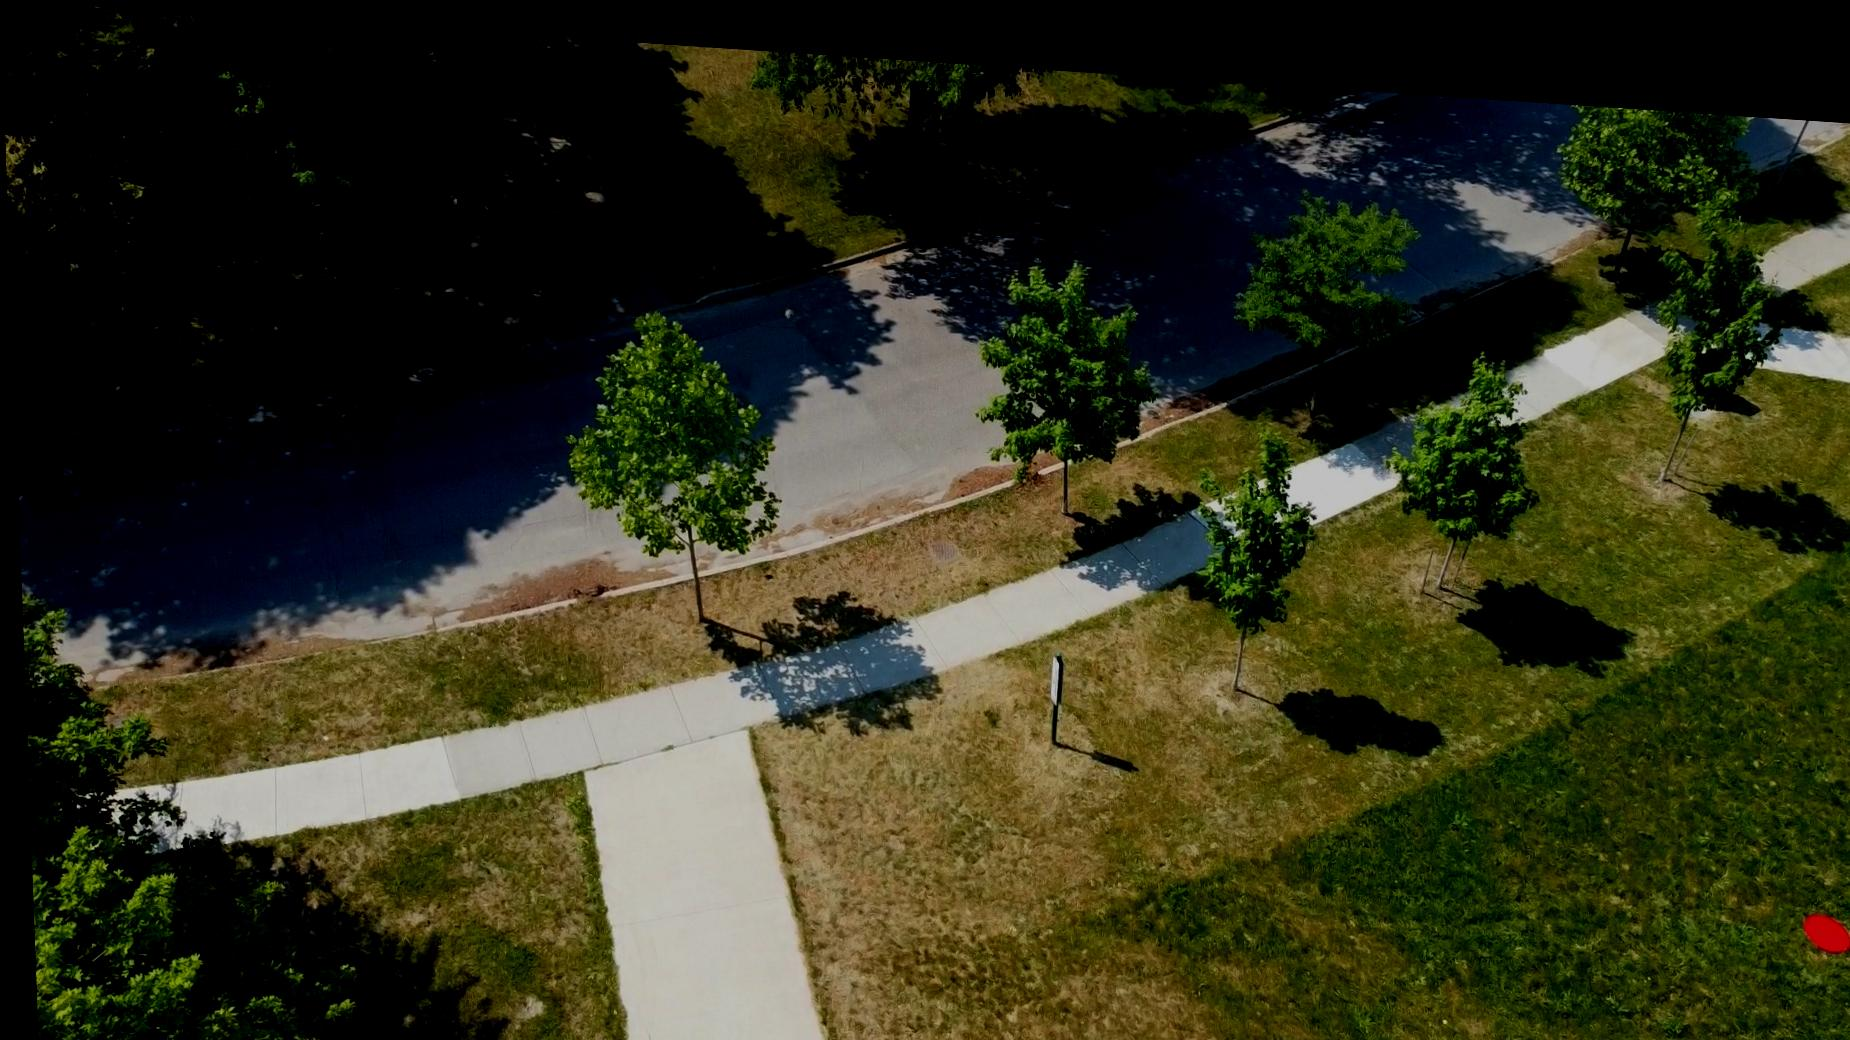Red: (1794, 885, 1846, 928)
